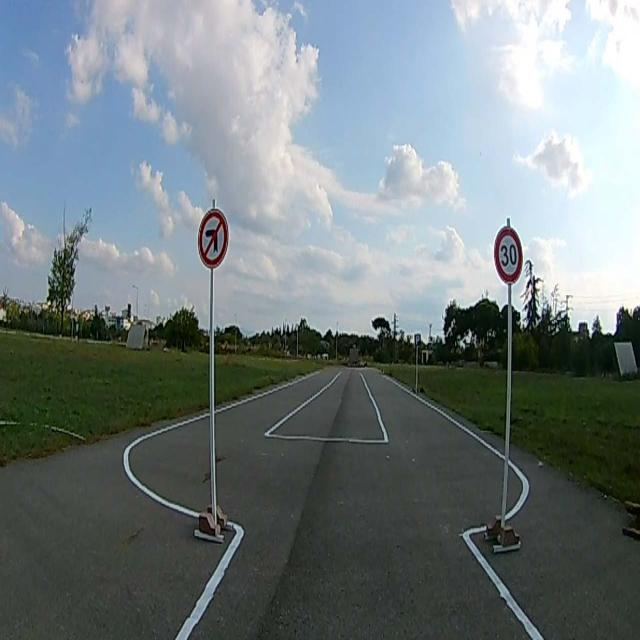30: (495, 228, 521, 282)
soladonulmez: (198, 210, 230, 266)
